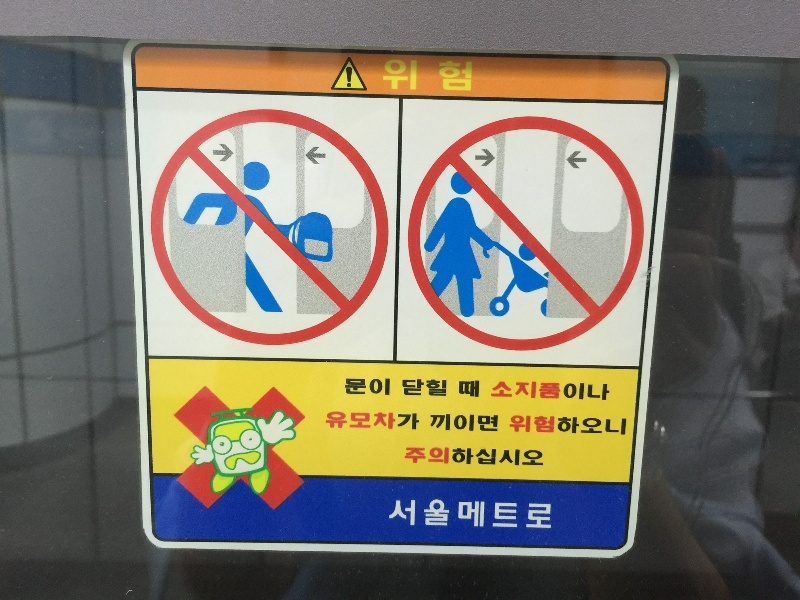text: (385, 59, 400, 92), (401, 59, 416, 92), (417, 59, 432, 92), (433, 59, 448, 92), (449, 59, 464, 92), (401, 499, 416, 530), (417, 499, 432, 530), (433, 499, 448, 530), (449, 499, 464, 530), (465, 499, 480, 530), (481, 499, 496, 530), (497, 499, 512, 530), (513, 499, 528, 530), (529, 499, 544, 530), (513, 380, 528, 401), (529, 380, 544, 401), (545, 380, 560, 401), (561, 380, 576, 401), (577, 380, 592, 401), (593, 380, 608, 401), (513, 415, 528, 435), (529, 415, 544, 435), (545, 415, 560, 435), (561, 415, 576, 435), (577, 415, 592, 435), (593, 415, 608, 435), (609, 415, 624, 435), (433, 414, 448, 433), (449, 414, 464, 433), (465, 414, 480, 433), (481, 414, 496, 433), (337, 412, 352, 431), (353, 412, 368, 431), (369, 412, 384, 431), (385, 412, 400, 431), (401, 412, 416, 431), (417, 447, 432, 466), (433, 447, 448, 466), (449, 447, 464, 466), (465, 447, 480, 466), (481, 447, 496, 466), (497, 447, 512, 466), (513, 447, 528, 466), (529, 447, 544, 466), (499, 380, 512, 401), (353, 378, 368, 396), (369, 378, 384, 396), (465, 59, 473, 92), (465, 380, 480, 397), (417, 380, 432, 396), (402, 380, 416, 396), (433, 380, 447, 396), (545, 499, 552, 530), (325, 412, 336, 431), (406, 447, 416, 466), (345, 378, 352, 396), (396, 499, 400, 530), (385, 378, 391, 396), (459, 380, 464, 397), (609, 380, 612, 401), (509, 415, 512, 435), (417, 412, 419, 431), (383, 59, 384, 92), (625, 415, 626, 435), (431, 414, 432, 433), (497, 414, 498, 433)
